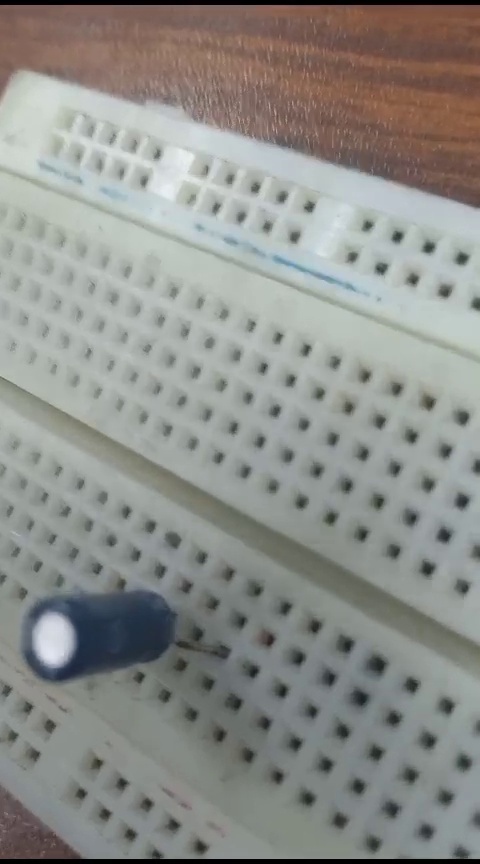capacitor: (12, 577, 186, 692)
